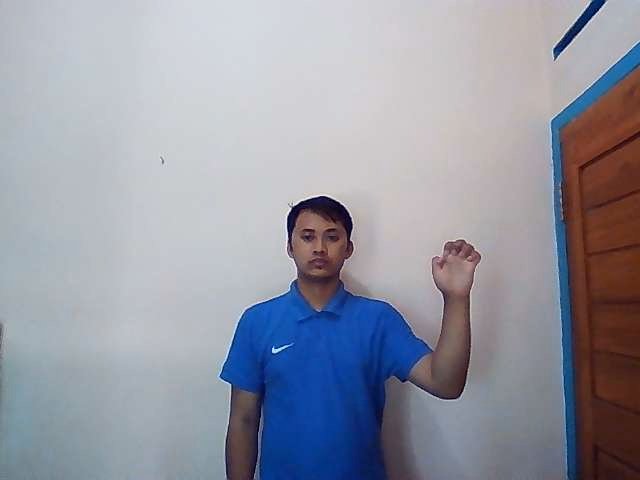E: (431, 240, 481, 295)
